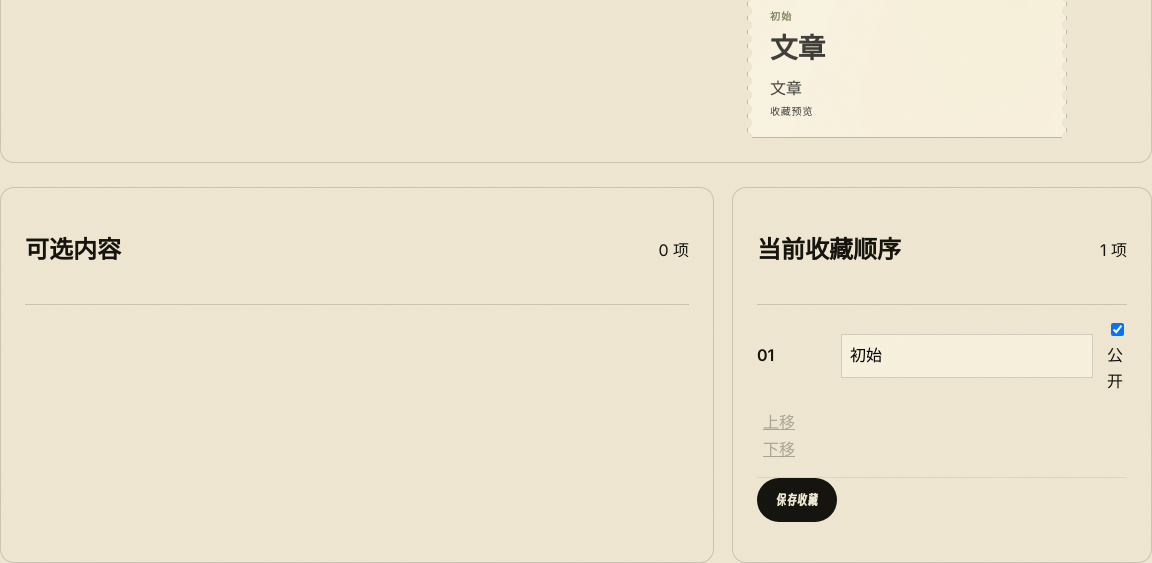
Scenario: AdminCollectionsPage draft hydration › preserves edits made after save while a background refresh completes
Later steps or results of the test are not shown.
(page scrolled)
Replace the text in the field named "第 1 项说明" with "已保存" at (967,356), box [841, 334, 1093, 378]
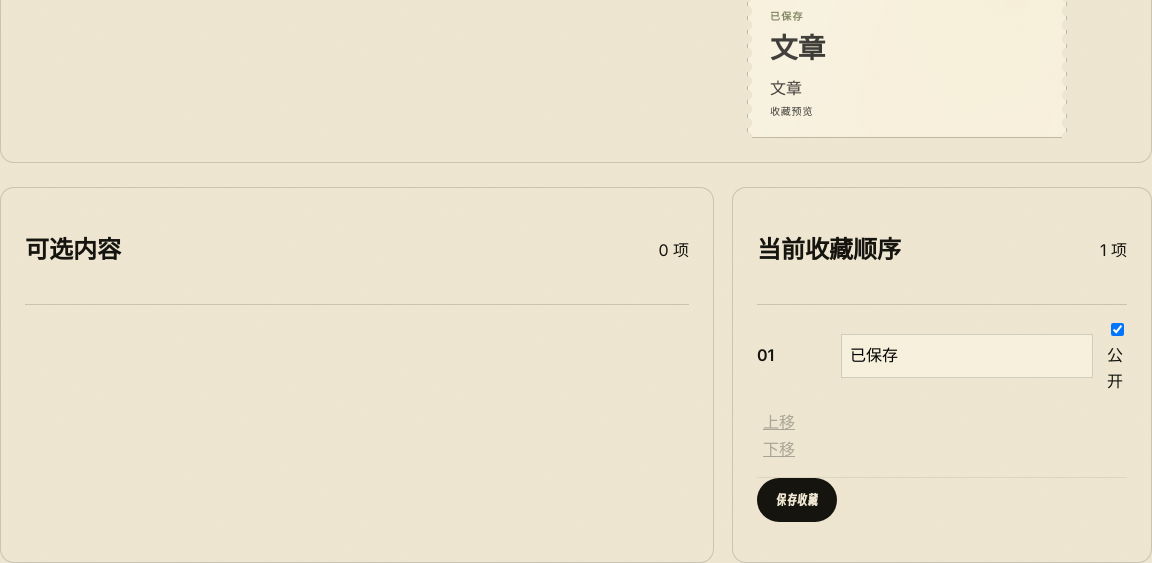
Click the button "保存收藏".
click(797, 500)  # box [757, 478, 837, 522]
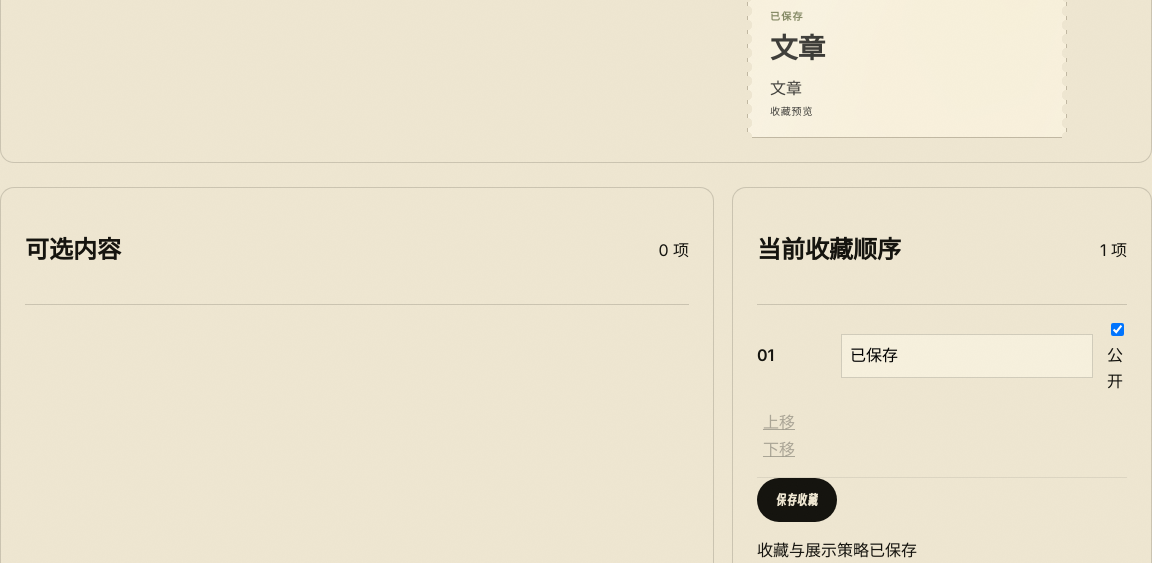
Check: the text "收藏与展示策略已保存" is shown, box [757, 540, 917, 560]
